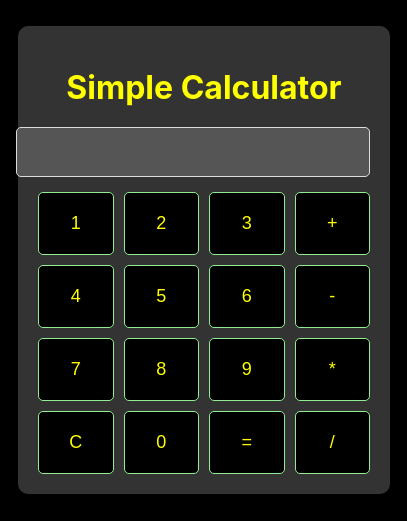
Scenario: performs addition correctly
Click the button "1".
click(76, 223)  # box [38,192,114,255]
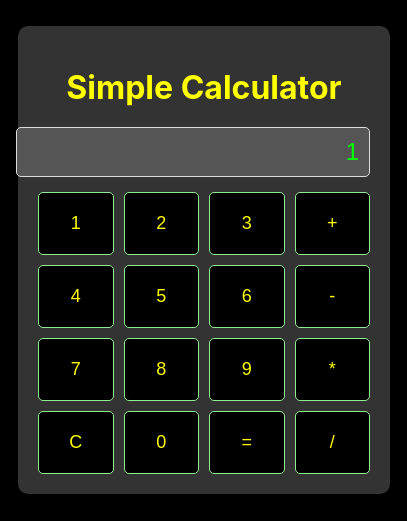
Click the button "+".
click(332, 223)  # box [294,192,370,255]
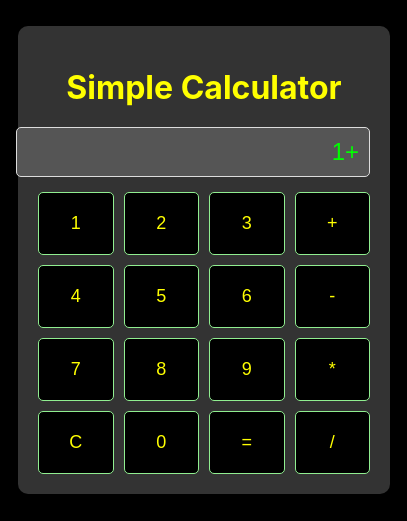
Click the button "2".
click(161, 223)  # box [124,192,199,255]
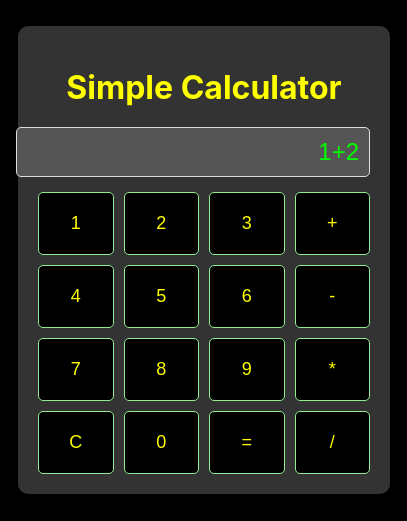
Click the button "=".
click(247, 442)  # box [209,411,284,474]
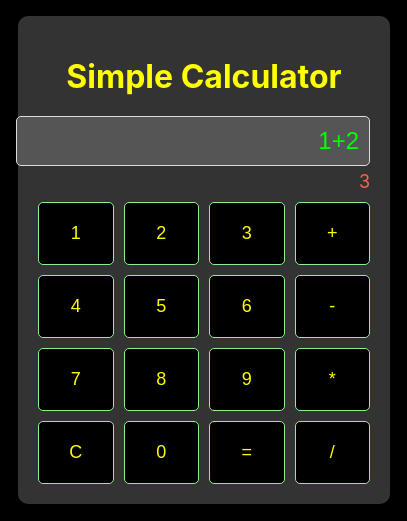
Expected: the text with class "result" reads "3", [359,171,370,192]
